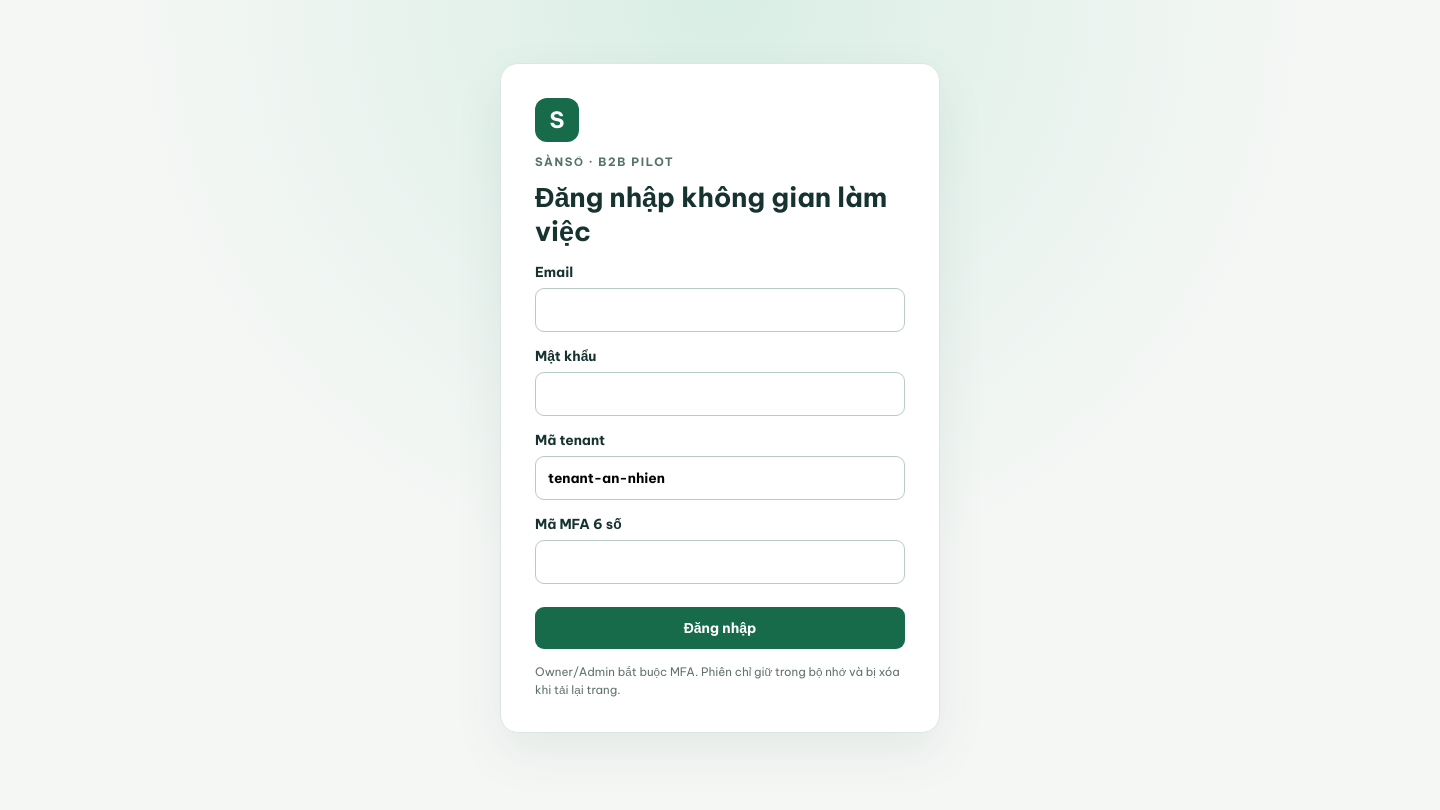
Test case: AppV7 authenticated workspace › logs an Owner in, sends the tenant bearer, and loads onboarding
Type "user@example.invalid" into the field labelled "Email" at (720, 310), box [535,288,905,332]
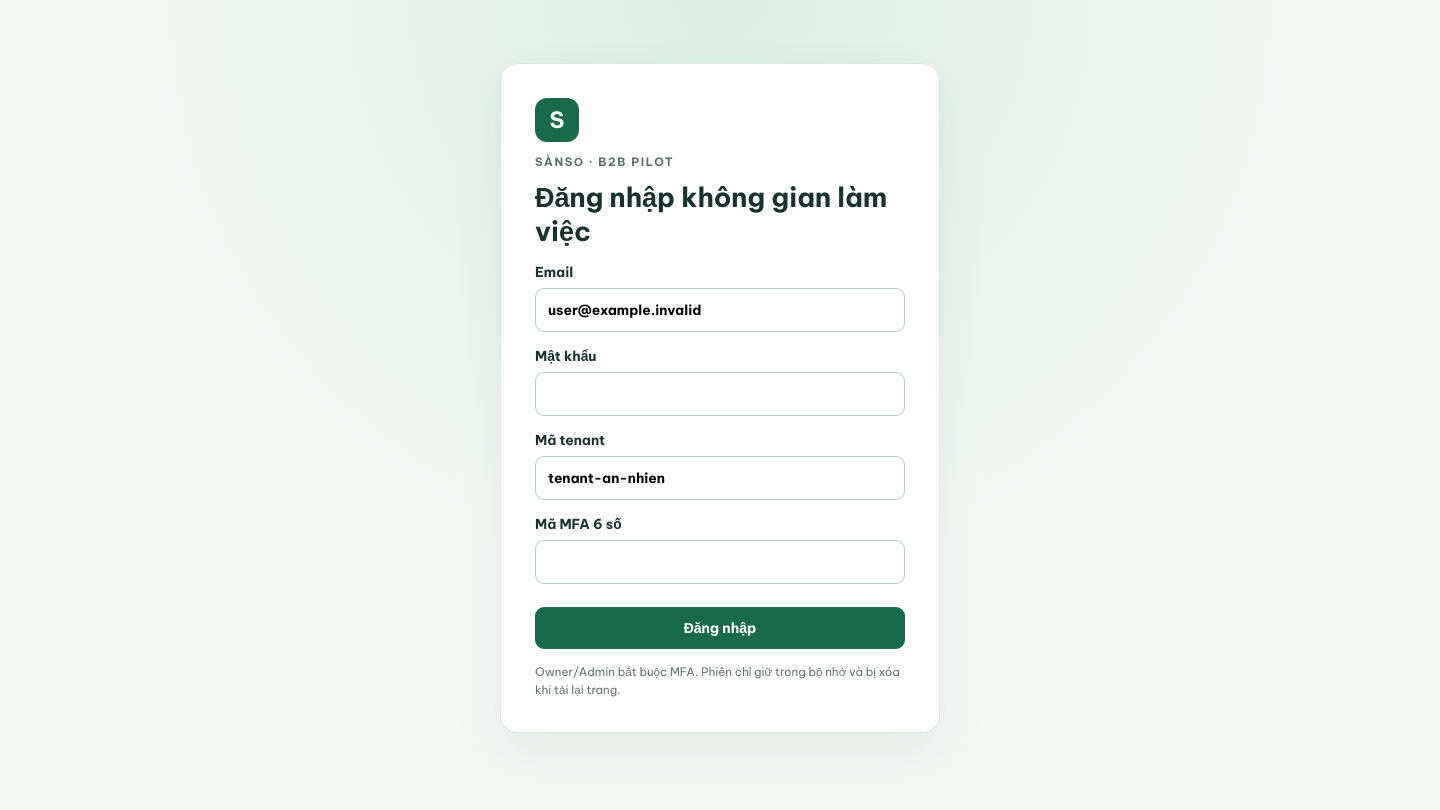
Type "a-long-password" into the password field labelled "Mật khẩu" at (720, 394), box [535,372,905,416]
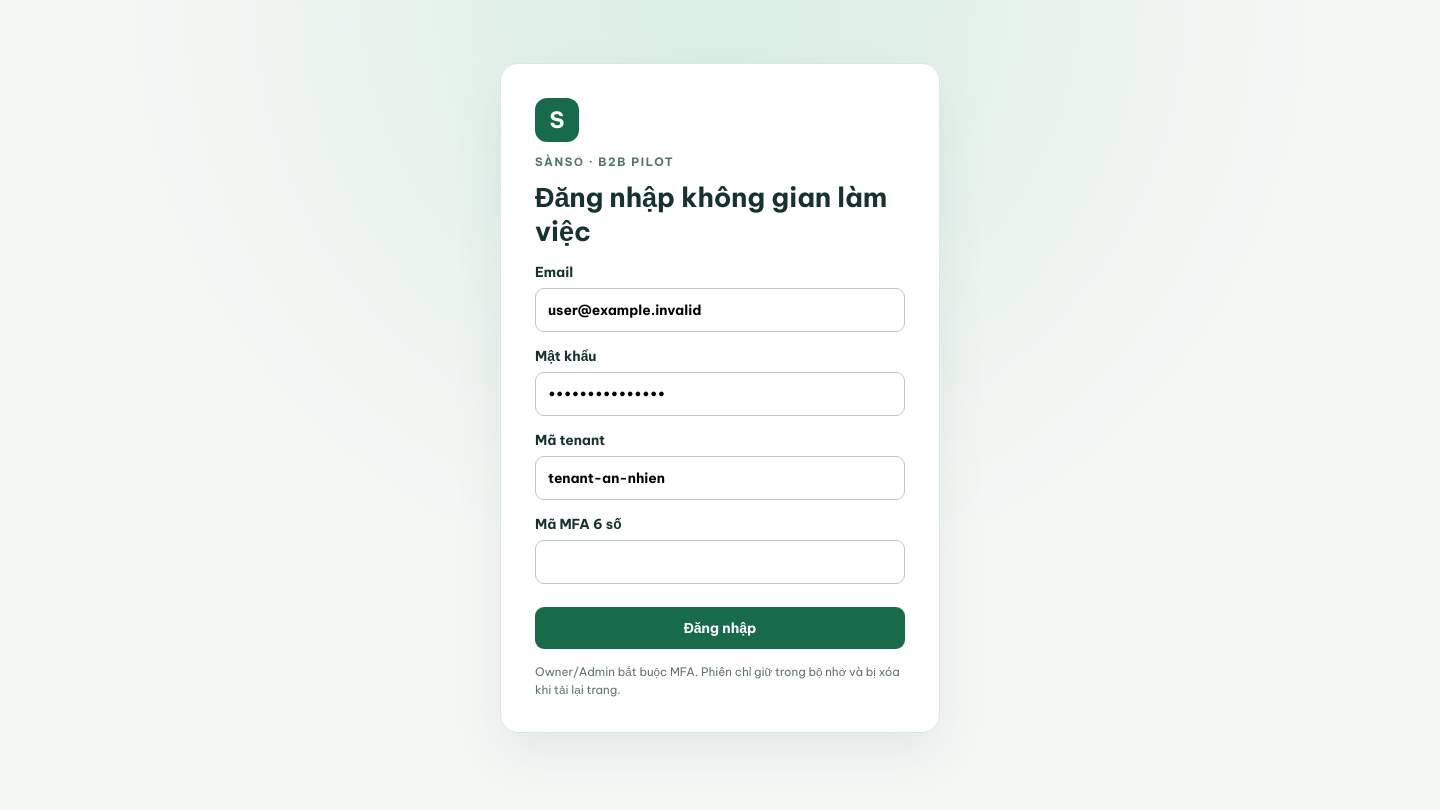
Type "123456" into the field labelled "Mã MFA 6 số" at (720, 562), box [535,540,905,584]
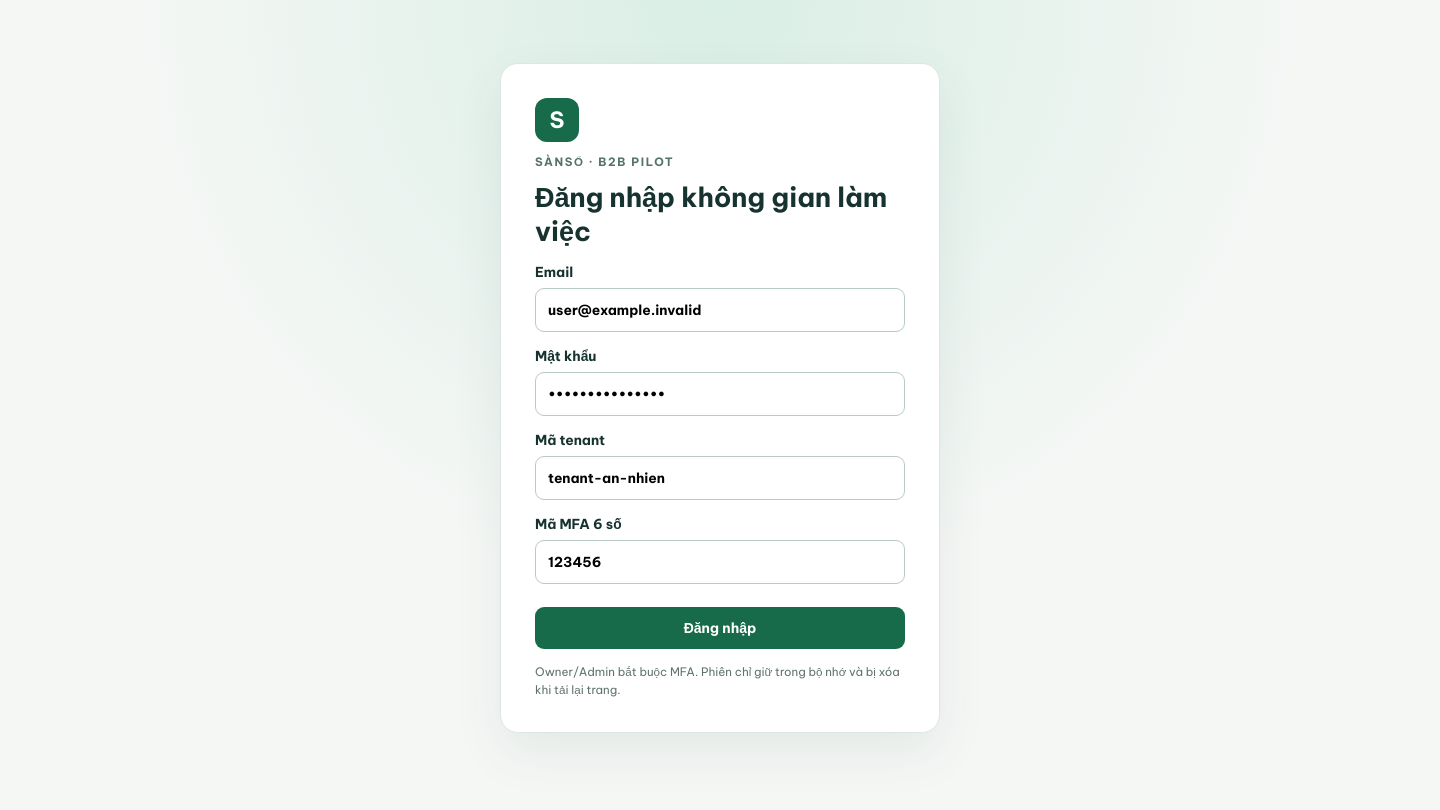
Click the button "Đăng nhập" at (720, 628), box [535,607,905,649]
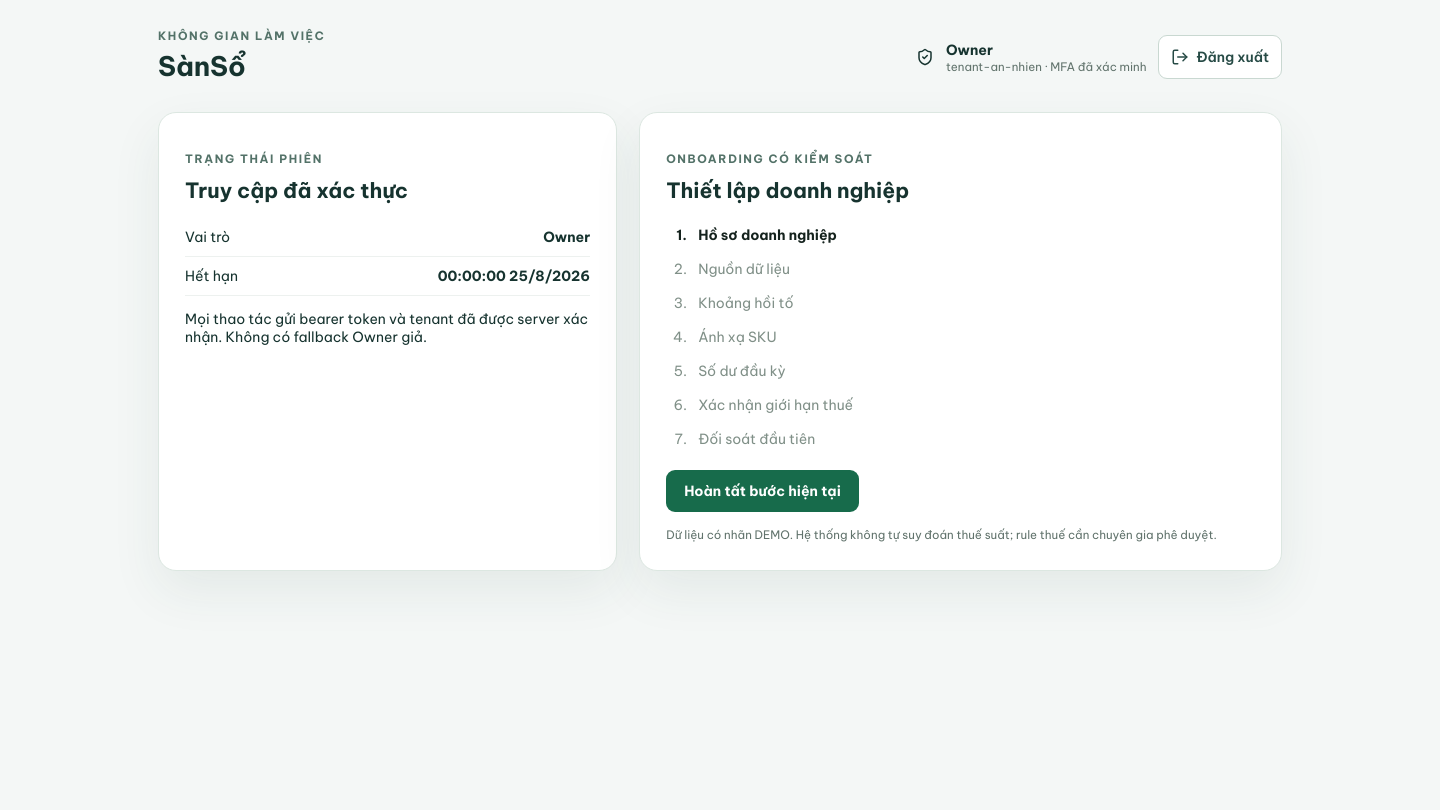
Result: the heading "Truy cập đã xác thực" is shown at [185,177,408,204]
Result: the heading "Thiết lập doanh nghiệp" is shown at [666,177,909,204]
